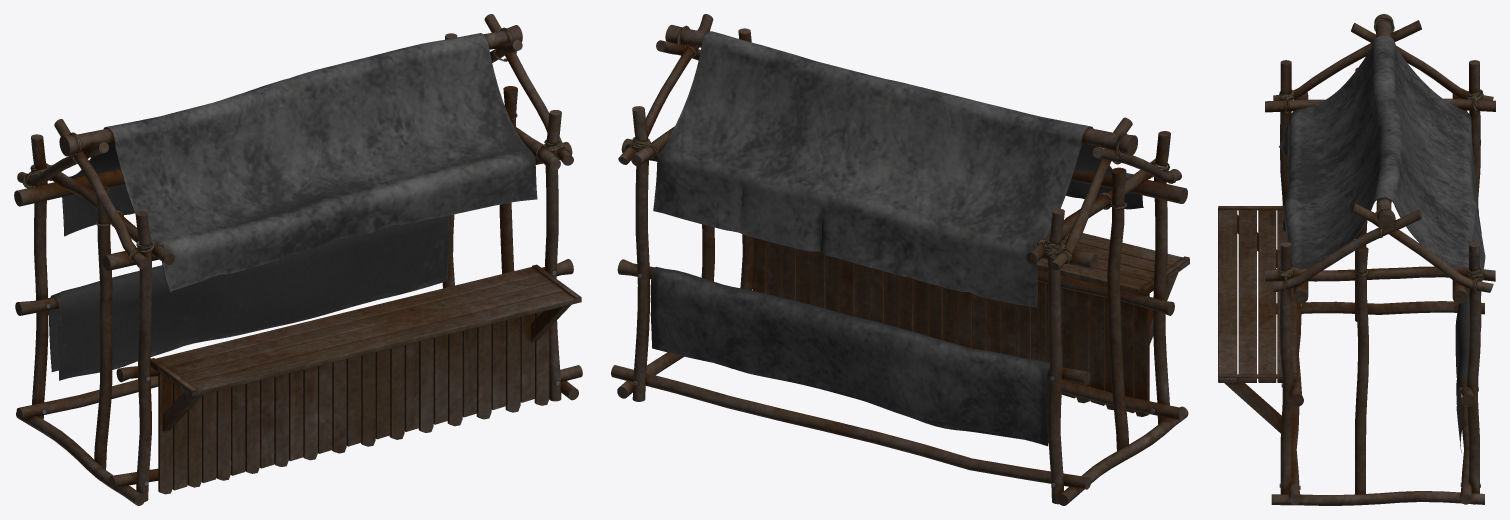
File: Stall_astral3d.optimize.glb
3 renders of one model, left to right at view 1: azimuth 30°, elevation 25°; view 2: azimuth 150°, elevation 25°; view 3: azimuth 270°, elevation 25°, orthographic. The views are drawn at different scales.
Visible parts, largest first — view 1: 3D_stall_2; view 2: 3D_stall_2; view 3: 3D_stall_2.
Part boxes in pixels (x1=…): 3D_stall_2: x1=14, y1=14, x2=582, y2=505; 3D_stall_2: x1=611, y1=14, x2=1189, y2=505; 3D_stall_2: x1=1218, y1=14, x2=1495, y2=505.
Size of the model in its own units: 4.3 by 2.92 by 2.44.
Materials: 1 (1 with a texture image).
